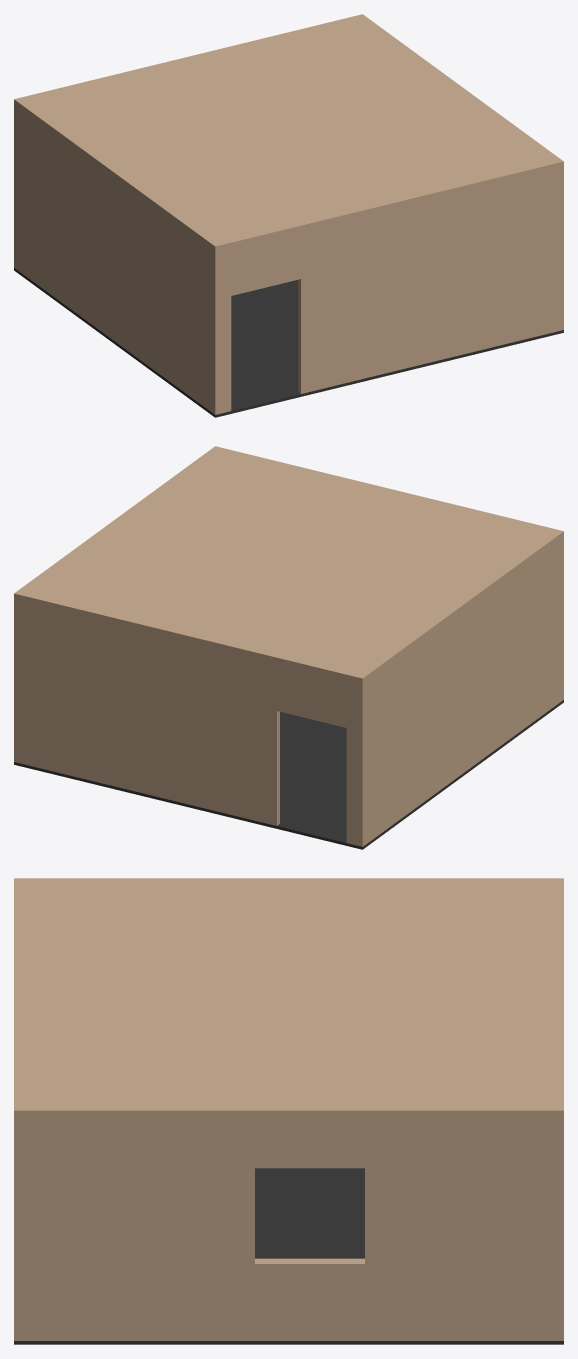
File: Room02.gltf
3 renders of one model, top to bottom at view 1: azimuth 30°, elevation 25°; view 2: azimuth 150°, elevation 25°; view 3: azimuth 270°, elevation 25°, orthographic. The views are drawn at different scales.
Visible parts, largest first — view 1: roof, wall2, wall, floor, wall3, Wall4-left; view 2: roof, wall3, wall, floor, wall2, Wall4-left; view 3: roof, Wall4-left, floor, wall2, wall3, wall.
Part boxes in pixels (box(x1,y1,x2,y2)): roof: box(16, 15, 563, 248); wall2: box(212, 159, 563, 414); wall: box(17, 100, 215, 412); floor: box(14, 268, 563, 417); wall3: box(14, 14, 365, 269); Wall4-left: box(358, 16, 560, 160); roof: box(16, 446, 563, 678); wall3: box(14, 591, 365, 846); wall: box(361, 532, 560, 844); floor: box(14, 700, 563, 849); wall2: box(212, 446, 563, 701); Wall4-left: box(18, 448, 219, 591); roof: box(14, 878, 559, 1114); Wall4-left: box(22, 1105, 555, 1340); floor: box(14, 1168, 563, 1344); wall2: box(14, 878, 22, 1340); wall3: box(555, 878, 563, 1340); wall: box(22, 878, 555, 881).
Size of the model in its own units: 130 by 61 by 130.
